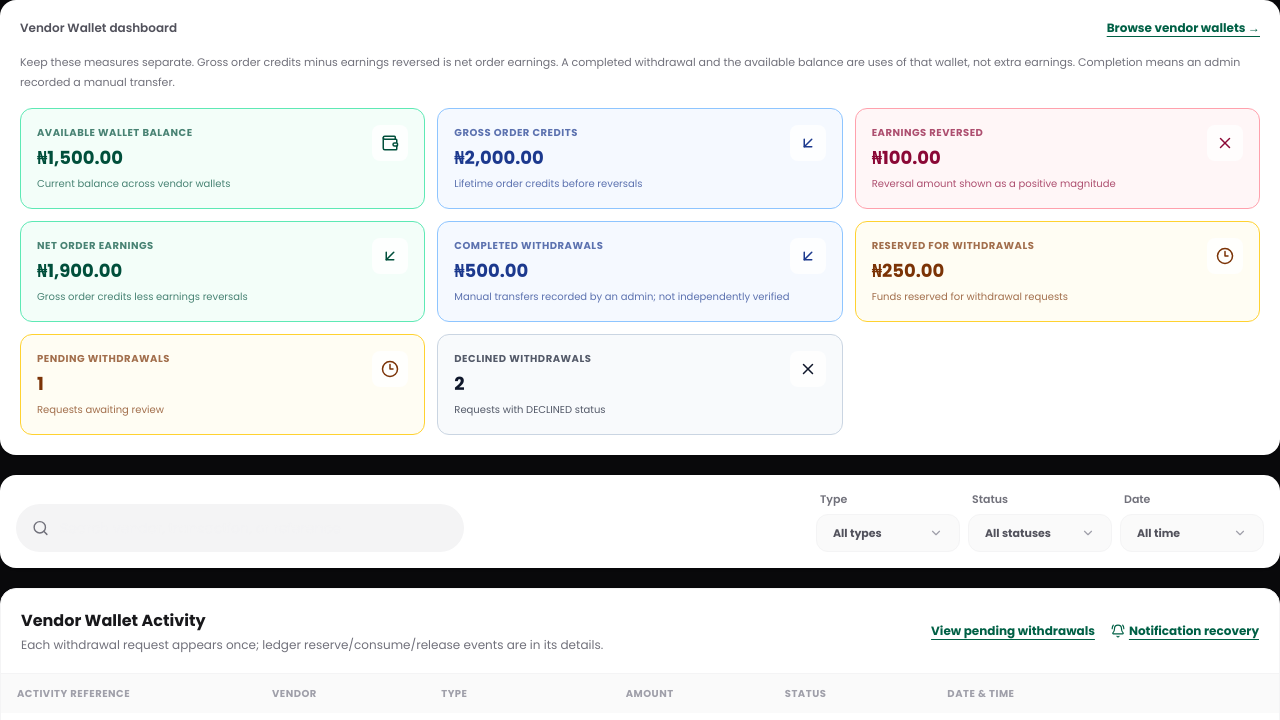
Test case: Super Admin Vendor Wallet API screens › posts a completed status once, keeps one idempotency key, and refreshes the final detail
The image size is (1280, 720).
Click the button "Pending withdrawals 1 Requests awaiting review" at (103, 358), box 20,334 -> 425,435
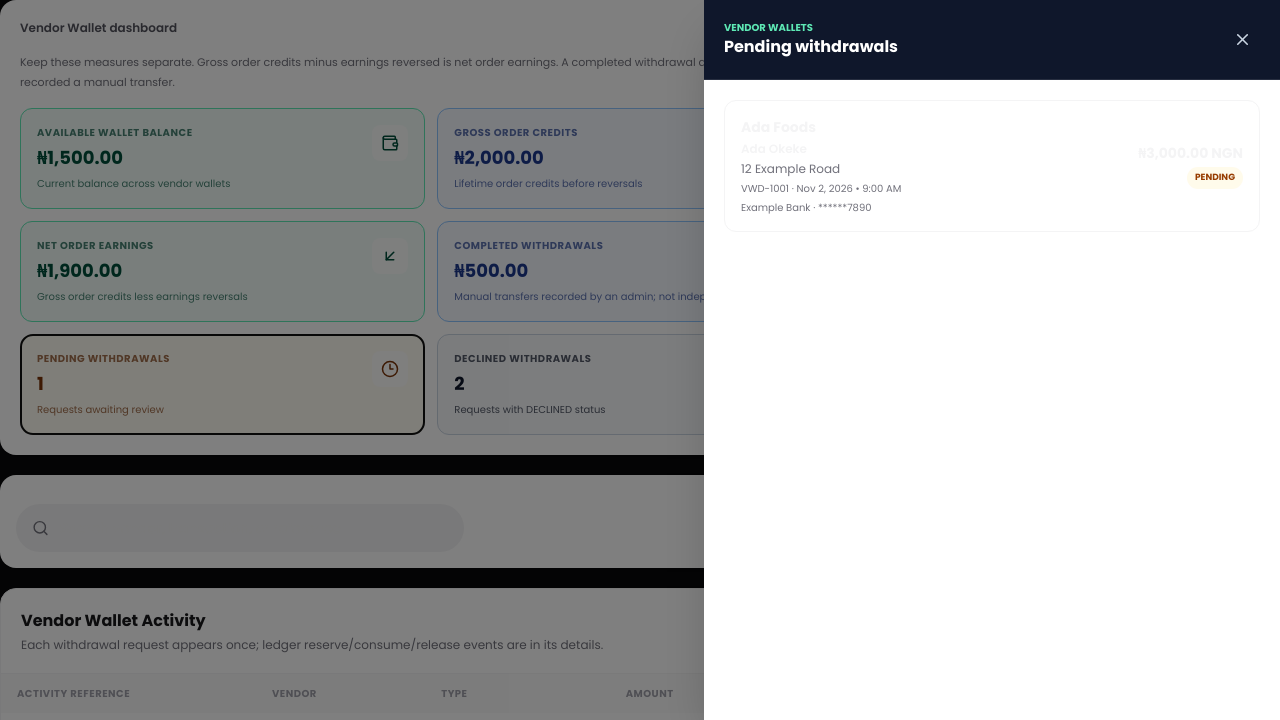
Click the button "VWD-1001" at (779, 127), box 724,100 -> 1260,232
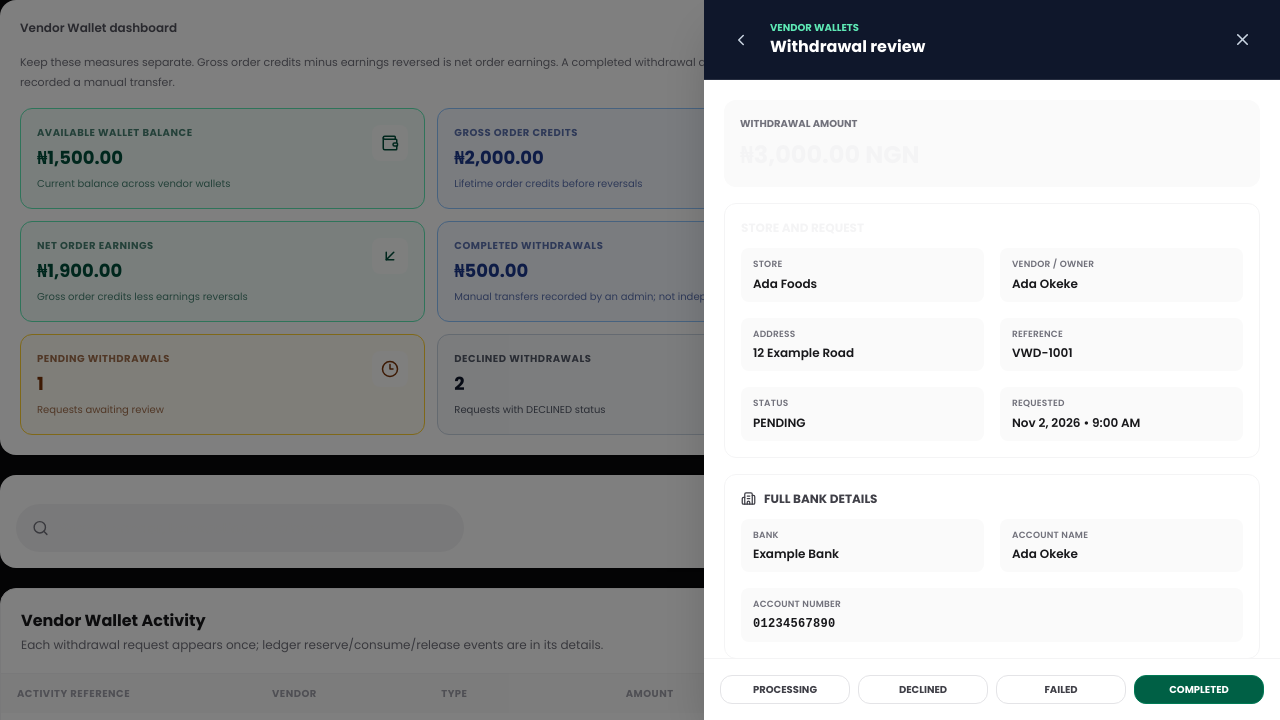
Click the button "COMPLETED" at (1199, 689), box 1134,674 -> 1264,704
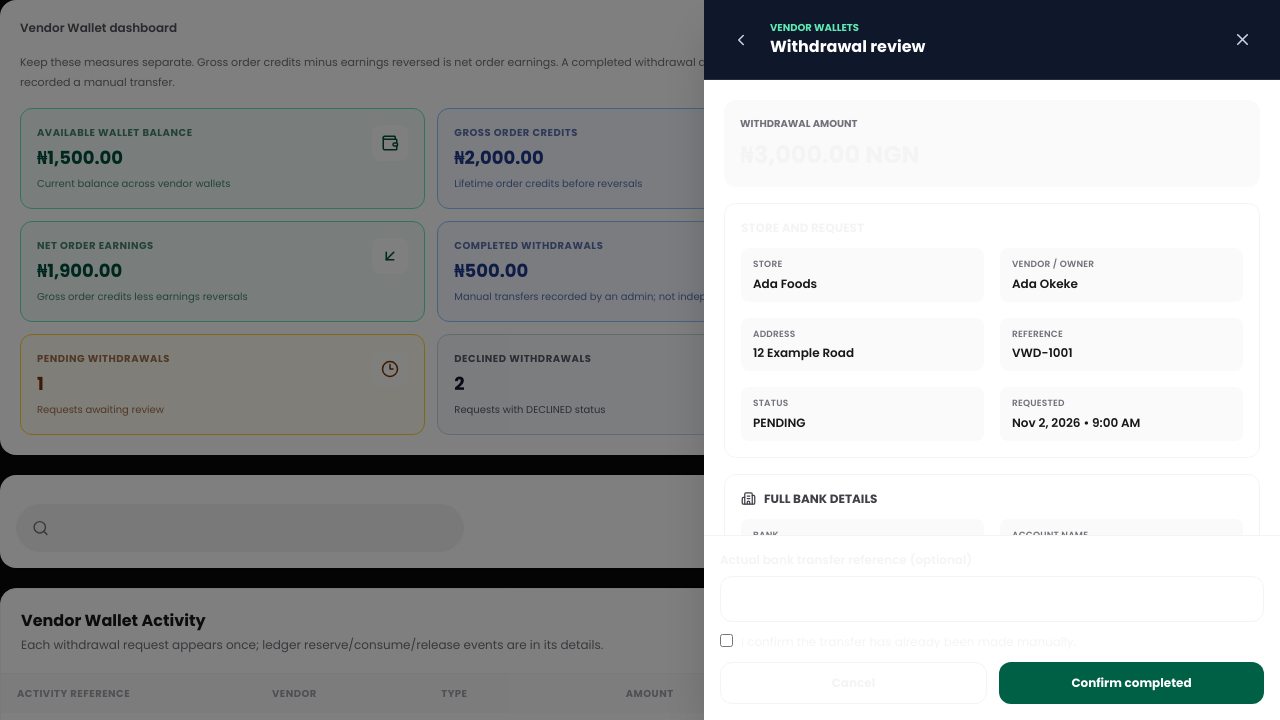
Click the checkbox at (726, 640), box 720,634 -> 733,647
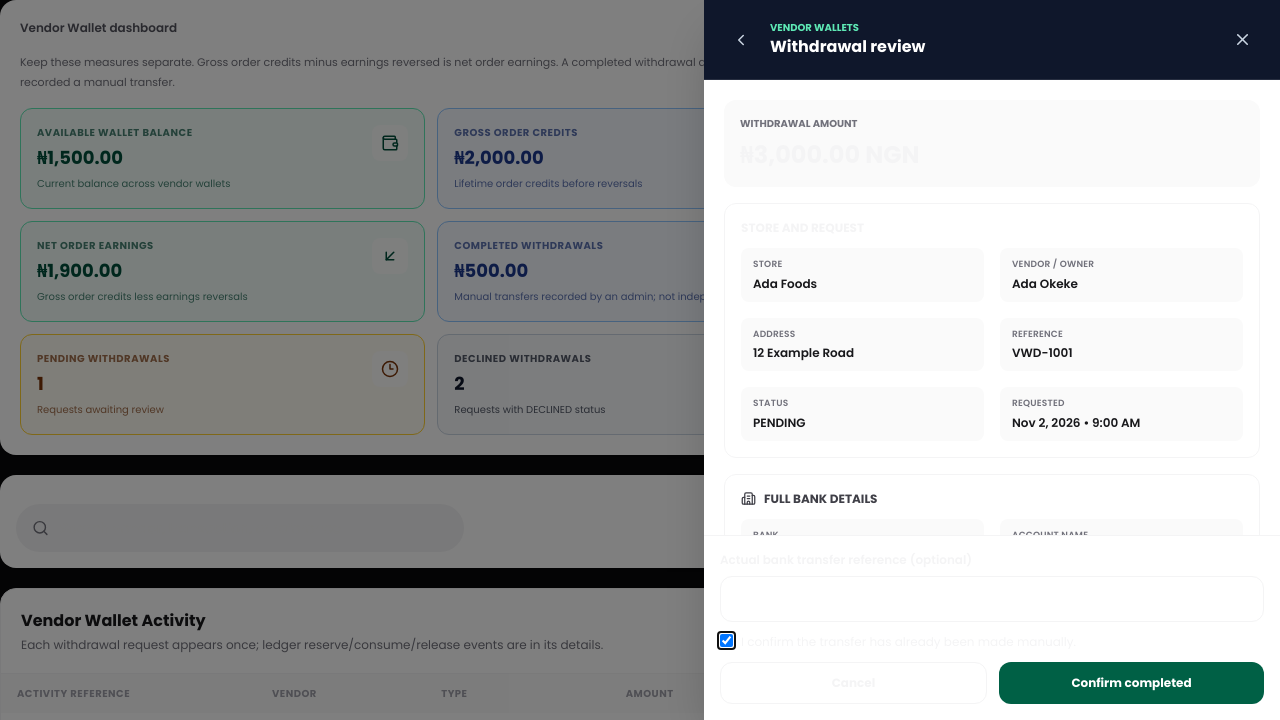
Click the button "Confirm completed" at (1132, 683), box 999,662 -> 1264,704
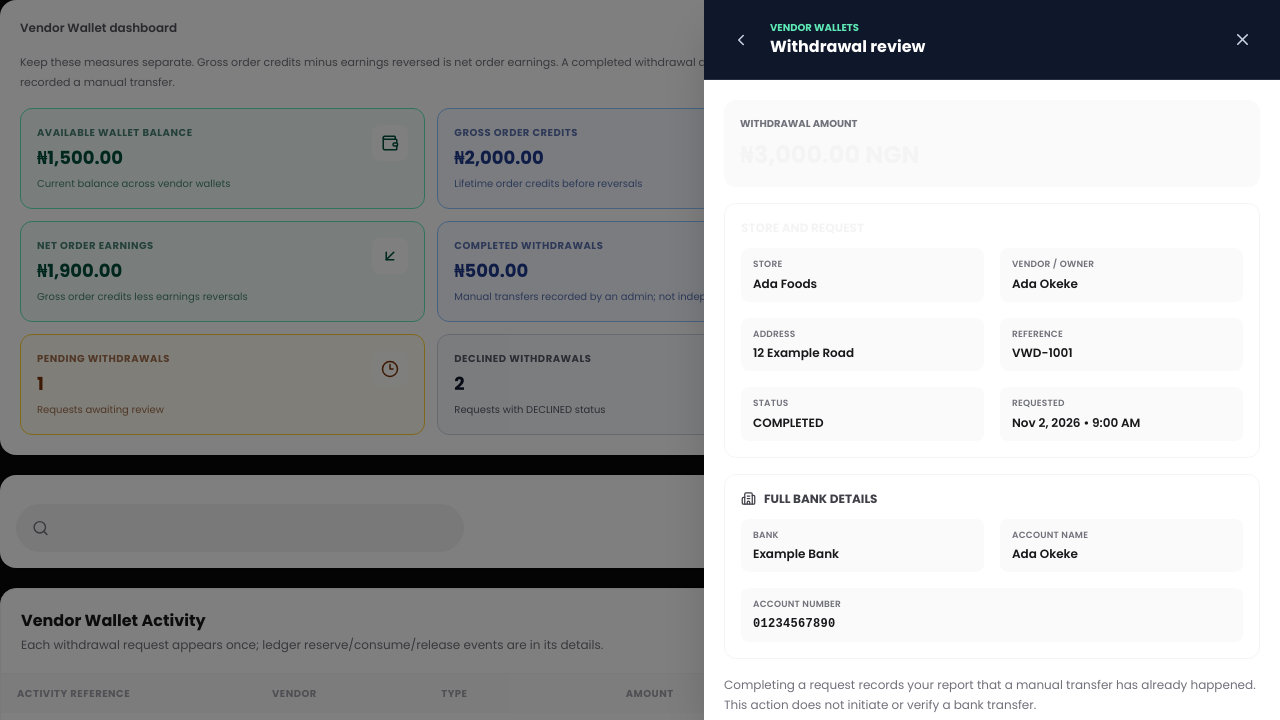
Now the text "COMPLETED" is shown, box 753,414 -> 824,430
